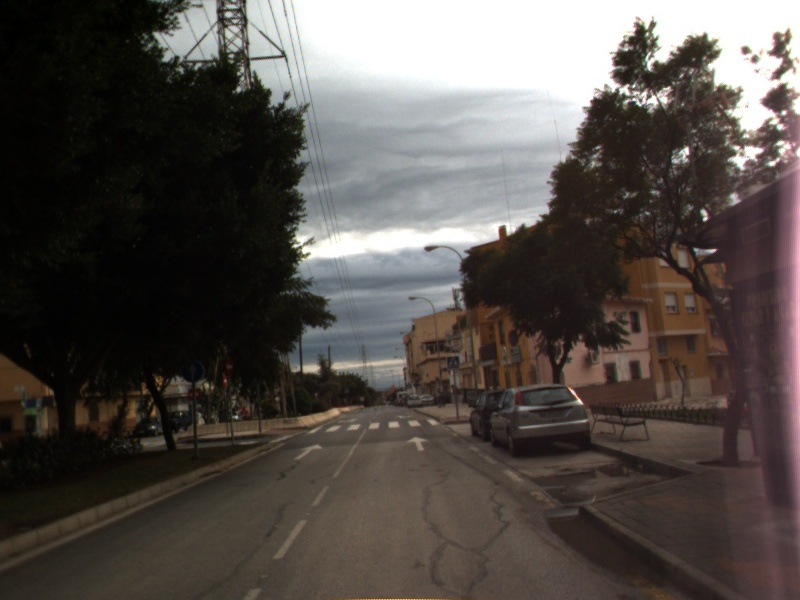STRAIGHT: (291, 441, 325, 462), (404, 434, 431, 453)
